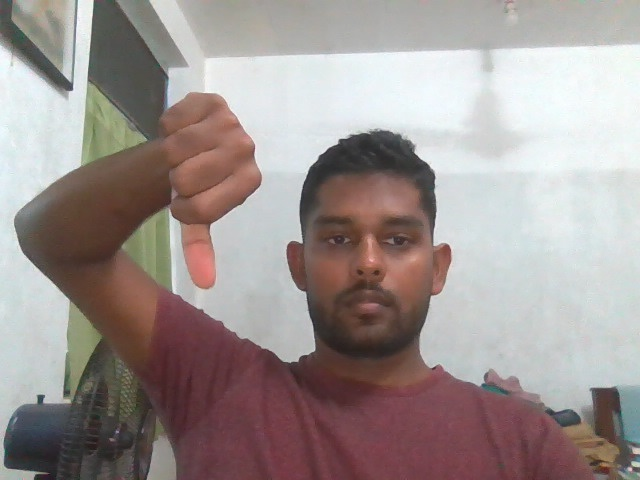dontlike: (148, 78, 272, 293)
